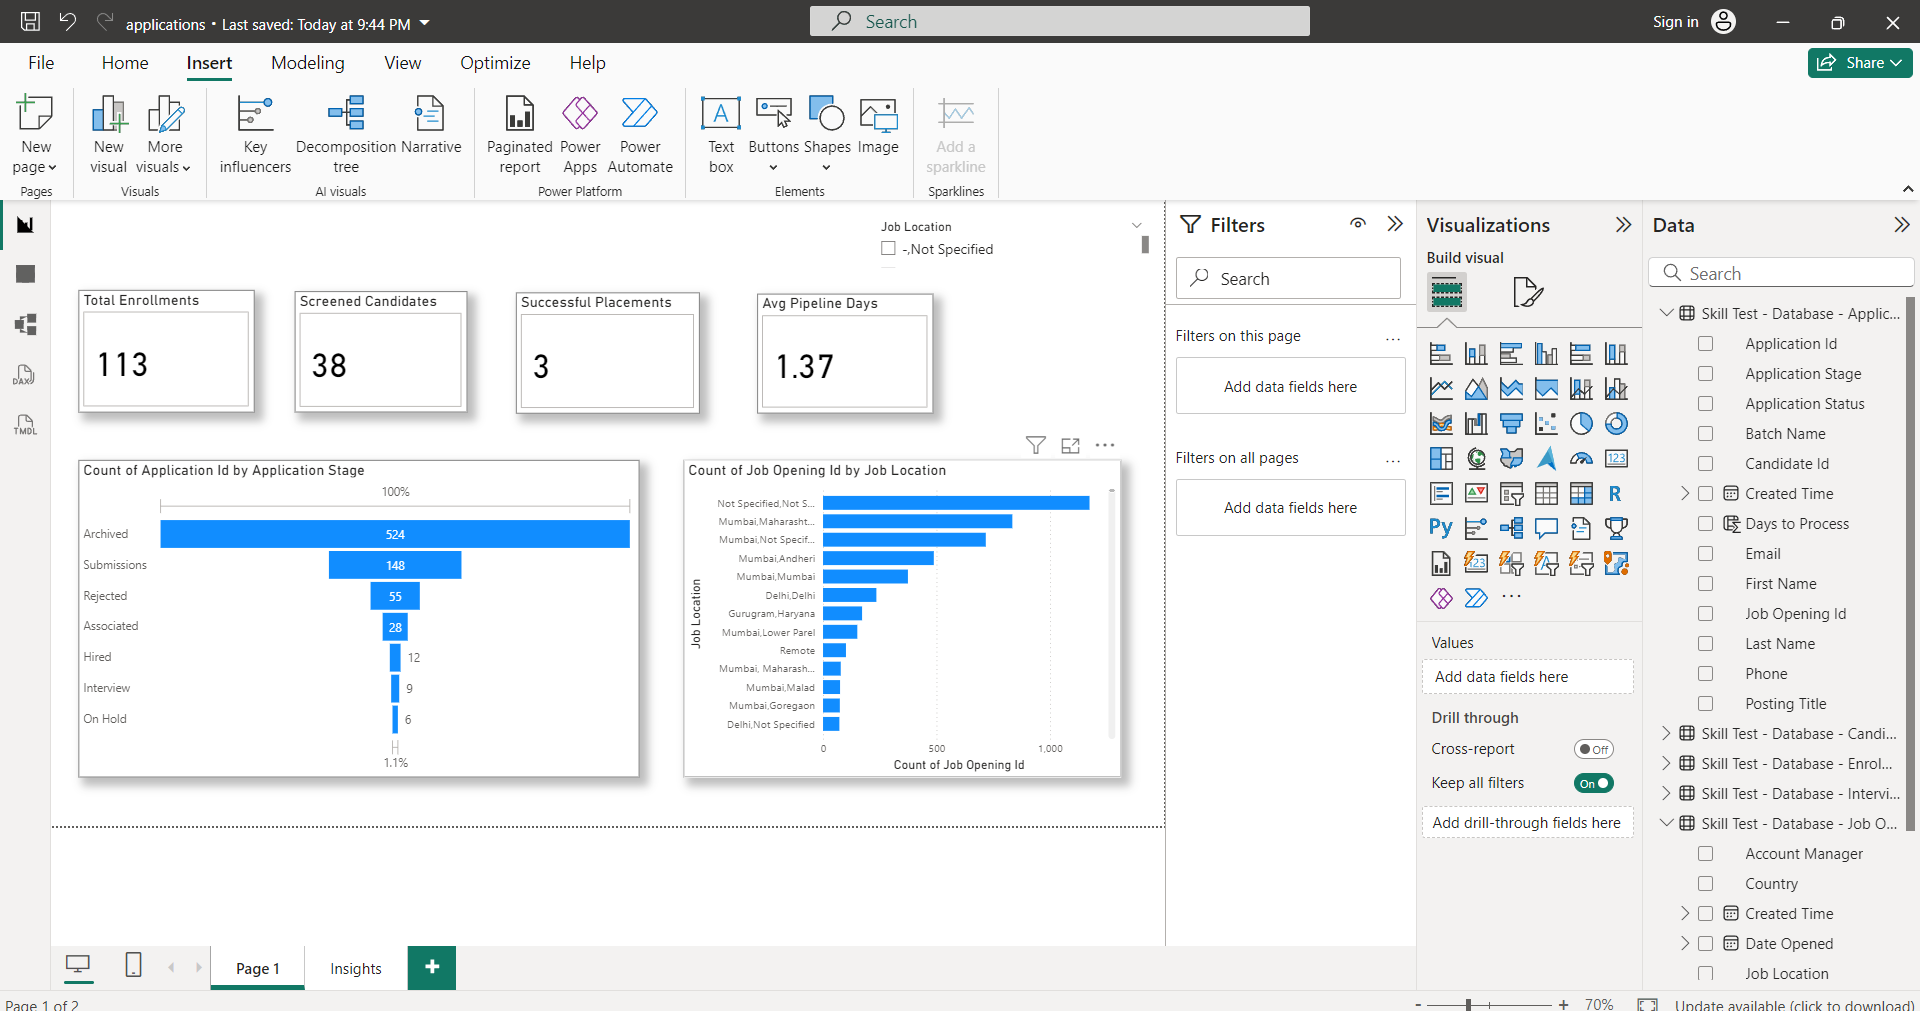

Layout of this report page (visuals, bound fields, positions):
{"tool":"powerbi","page":{"name":"Page 1","canvas":[1280,720],"ordinal":0},"visuals":[{"type":"cardVisual","title":"Total Enrollments","fields":{"Data":["Count(Skill Test - Database - Enrolments.Enrolment ID)"]},"box":[31.6,103.5,202.6,140.8],"z":0},{"type":"cardVisual","title":"Screened Candidates","fields":{"Data":["Count(Skill Test - Database - Candidates.Candidate Id)"]},"box":[280.2,104.9,198.3,139.4],"z":2},{"type":"cardVisual","title":"Successful Placements","fields":{"Data":["CountNonNull(Skill Test - Database - Applications.Application Status)"]},"box":[534.5,106.3,211.2,139.4],"z":3},{"type":"funnel","fields":{"Category":["Skill Test - Database - Applications.Application Stage"],"Y":["Count(Skill Test - Database - Applications.Application Id)"]},"box":[31.6,298.9,645.2,365],"z":4},{"type":"barChart","fields":{"Category":["Skill Test - Database - Job Openings.Job Location"],"Y":["Count(Skill Test - Database - Job Openings.Job Opening Id)"]},"box":[727.1,298.9,502.9,365],"z":5},{"type":"slicer","fields":{"Values":["Skill Test - Database - Job Openings.Job Location"]},"box":[941.2,17.2,326.2,64.7],"z":6},{"type":"cardVisual","title":"Avg Pipeline Days","fields":{"Data":["Avg(Skill Test - Database - Applications.Days To Process)"]},"box":[811.9,107.8,202.6,137.9],"z":7}]}

Visuals, with their boxes on the page's 1280x720 design canvas (x1, y1, x2, y2). These are canvas units, not pixel positions in the 1920x1011 screenshot, which may show the page scaled, cropped or inside an application window:
"Total Enrollments" cardVisual: locate(32, 104, 234, 244)
"Screened Candidates" cardVisual: locate(280, 105, 478, 244)
"Successful Placements" cardVisual: locate(534, 106, 746, 246)
funnel - Skill Test - Database - Applications.Application Stage x Count(Skill Test - Database - Applications.Application Id): locate(32, 299, 677, 664)
barChart - Skill Test - Database - Job Openings.Job Location x Count(Skill Test - Database - Job Openings.Job Opening Id): locate(727, 299, 1230, 664)
slicer - Skill Test - Database - Job Openings.Job Location: locate(941, 17, 1267, 82)
"Avg Pipeline Days" cardVisual: locate(812, 108, 1014, 246)
